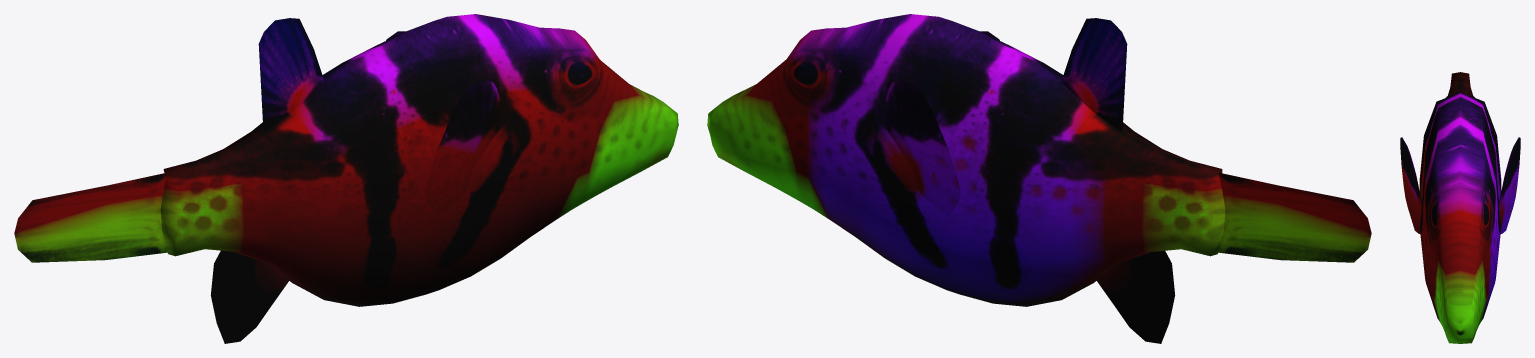
File: valentini_puffer.glb
The picture shows the model from 3 angles, left to right: view 1: azimuth 30°, elevation 25°; view 2: azimuth 150°, elevation 25°; view 3: azimuth 270°, elevation 25°; orthographic projection. The views are drawn at different scales.
Visible parts, largest first — view 1: ValentiniPuffer; view 2: ValentiniPuffer; view 3: ValentiniPuffer.
Boxes of the visible parts, x1,y1,x2,y2 form: ValentiniPuffer: [14, 14, 678, 343]; ValentiniPuffer: [707, 14, 1371, 343]; ValentiniPuffer: [1400, 72, 1520, 343].
Bounding box in the file's own units: 1 × 0.4499 × 0.197.
Materials: 1 (1 with a texture image).
